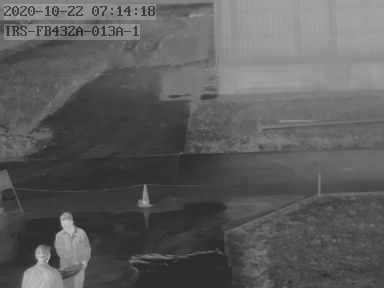person: (55, 211, 89, 288), (22, 244, 62, 288)
